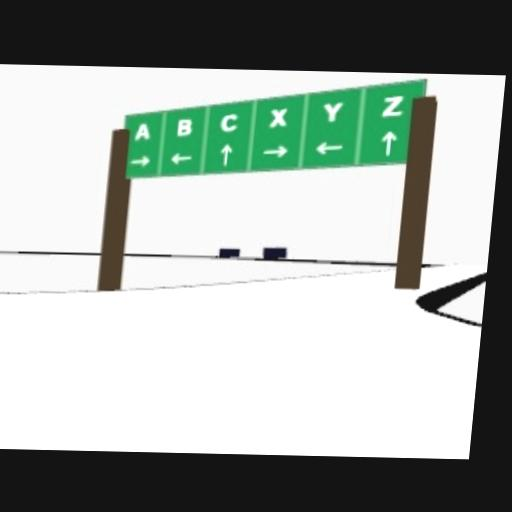A: (133, 123, 152, 142)
B: (176, 118, 194, 139)
C: (219, 111, 240, 134)
Left: (313, 138, 344, 157), (170, 152, 195, 165)
Right: (264, 142, 290, 159), (129, 153, 151, 170)
Straight: (379, 128, 399, 158), (218, 141, 233, 167)
X: (267, 107, 289, 128)
Y: (320, 100, 346, 123)
Z: (379, 93, 406, 119)
